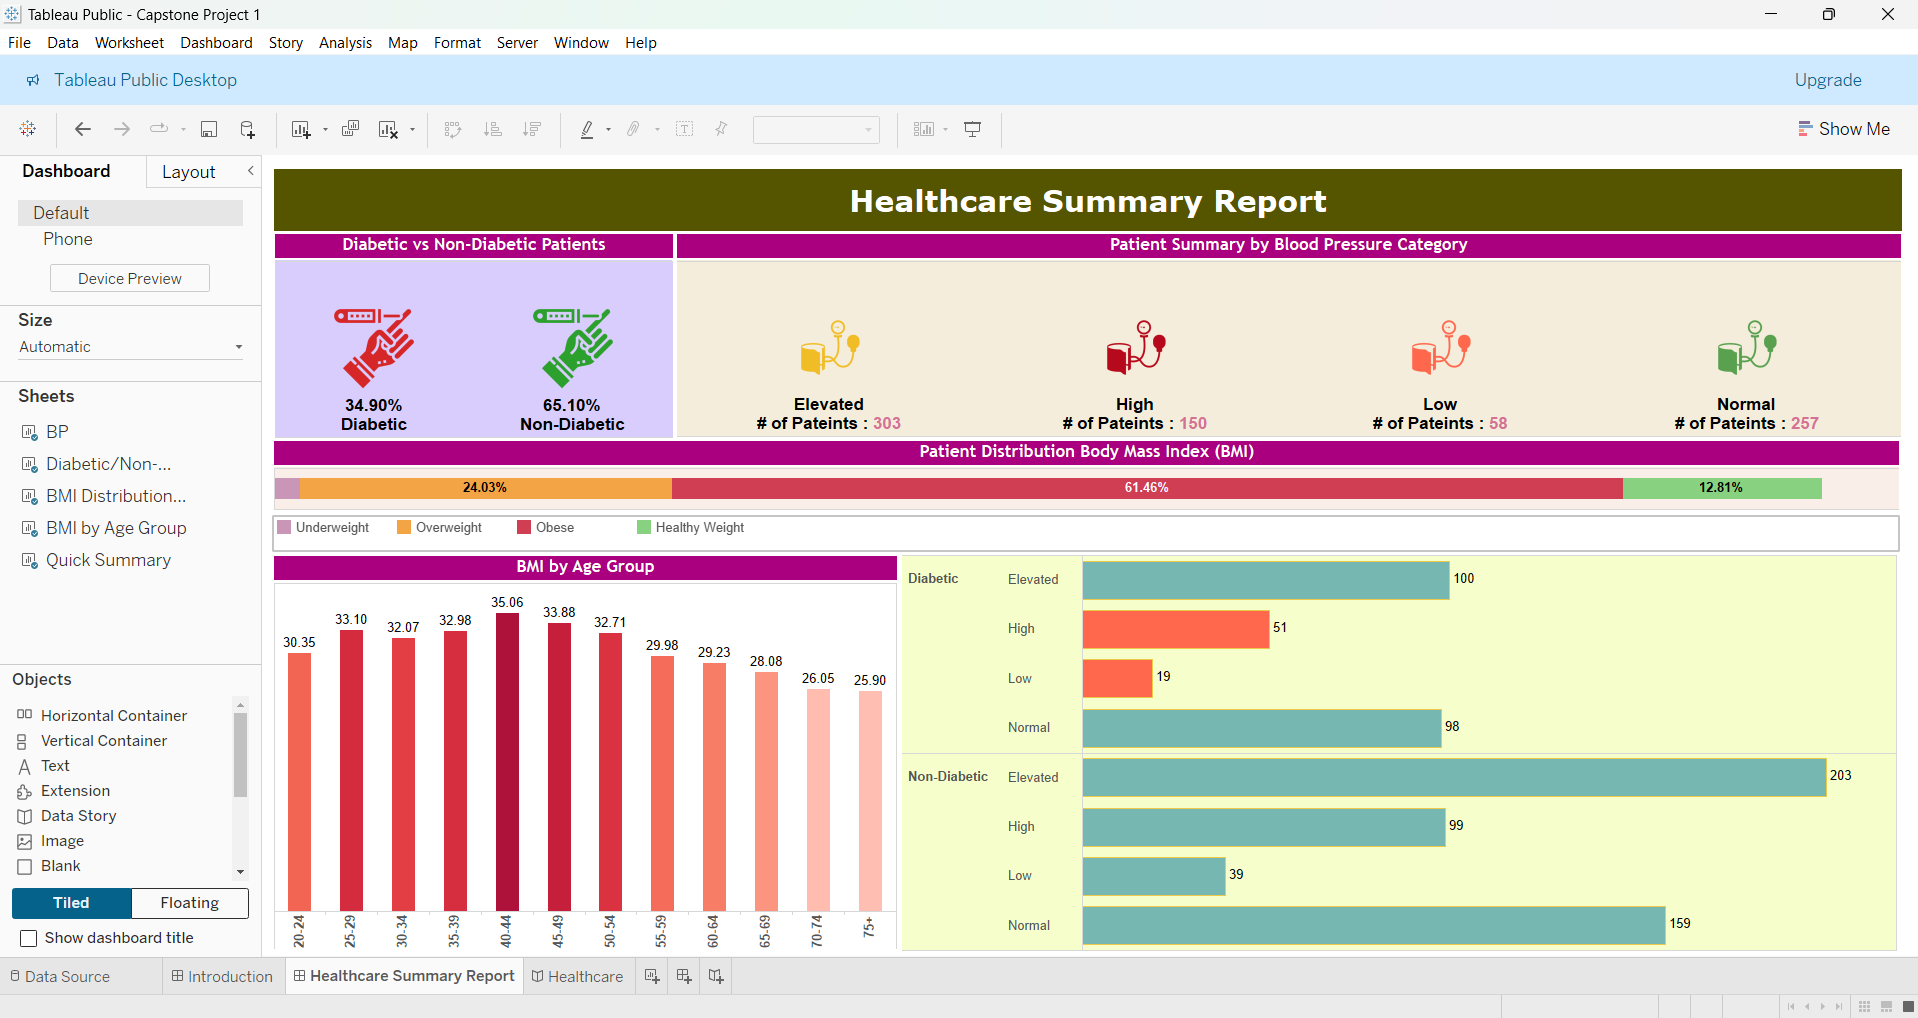

This screenshot's page, from the dashboard's own definition file:
{"tool":"tableau","page":{"name":"Healthcare Summary Report","canvas":[1000,1000],"units":"permille","ordinal":0},"visuals":[{"type":"text","box":[5.1,12.5,987.2,87.4]},{"type":"worksheet","title":"Diabetic/Non-Diabetic","mark":"Shape","cols":["Calculation_196188078754471936"],"box":[7.6,98.6,240.3,254.7]},{"type":"worksheet","title":"BP","mark":"Shape","cols":["Blood Pressure Systolic"],"box":[250.3,98.6,738.9,253.4]},{"type":"worksheet","title":"BMI Distribution by Count","mark":"Automatic","cols":["ID"],"box":[7,357.1,981,86.1]},{"type":"legend","title":"BMI Distribution by Count","param":"[federated.15x5tf11w3dua71bddl1s1m816na].[none:Calculation_196188078926819330:nk","box":[7,451.9,980.4,41.2]},{"type":"worksheet","title":"Quick Summary","mark":"Bar","rows":["Calculation_196188078754471936","Blood Pressure Systolic"],"cols":["ID"],"box":[386.2,499.4,600.5,494.4]},{"type":"worksheet","title":"BMI by Age Group","mark":"Automatic","rows":["BMI"],"cols":["Age (bin) 2"],"box":[7.5,500.6,375.9,491.9]}]}

Visuals, with their boxes on the dashboard's canvas, which has no fixed pixel size, in thousandths of its width and height (x1, y1, x2, y2). These are canvas units, not pixel positions in the 1918x1018 screenshot, which may show the page scaled, cropped or inside an application window:
text: [x1=5, y1=12, x2=992, y2=100]
"Diabetic/Non-Diabetic" worksheet (Shape marks): [x1=8, y1=99, x2=248, y2=353]
"BP" worksheet (Shape marks): [x1=250, y1=99, x2=989, y2=352]
"BMI Distribution by Count" worksheet: [x1=7, y1=357, x2=988, y2=443]
"BMI Distribution by Count" legend: [x1=7, y1=452, x2=987, y2=493]
"Quick Summary" worksheet (Bar marks): [x1=386, y1=499, x2=987, y2=994]
"BMI by Age Group" worksheet: [x1=8, y1=501, x2=383, y2=992]
